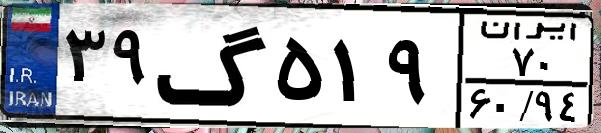0: (537, 27, 568, 80), (495, 70, 520, 125)
1: (330, 28, 385, 110)
3: (57, 26, 110, 100)
4: (560, 70, 590, 125)
5: (270, 28, 330, 110)
6: (470, 70, 495, 125)
7: (508, 27, 537, 80)
9: (385, 28, 445, 110), (110, 28, 156, 98), (535, 70, 560, 125)
گ: (156, 12, 270, 120)
